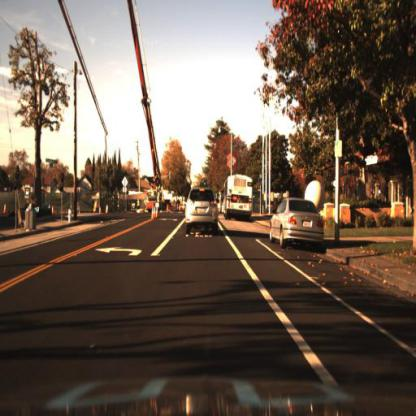car: (264, 196, 329, 255), (179, 188, 222, 242)
pedestrian: (155, 188, 165, 214)
truck: (56, 1, 170, 218), (221, 171, 261, 221)
